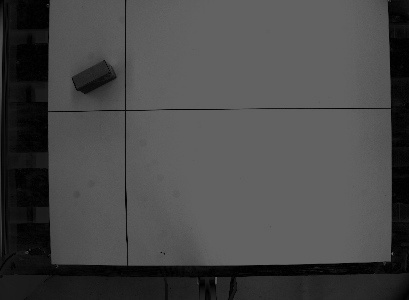b1: (69, 57, 119, 95)
